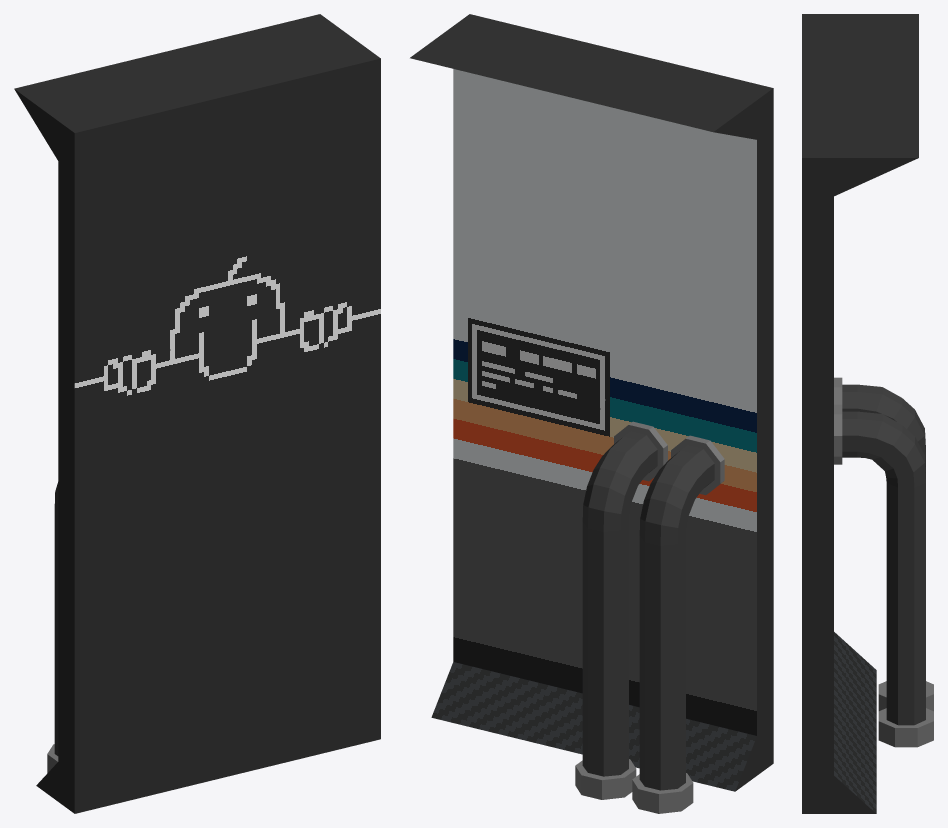
File: CalShipWall2.gltf
3 renders of one model, left to right at view 1: azimuth 30°, elevation 25°; view 2: azimuth 150°, elevation 25°; view 3: azimuth 270°, elevation 25°, orthographic. The views are drawn at different scales.
Visible parts, largest first — view 1: mesh; view 2: mesh; view 3: mesh.
Boxes of the visible parts, <box> form: mesh: <box>14,14,380,813</box>; mesh: <box>410,14,773,813</box>; mesh: <box>802,14,933,813</box>.
Bounding box in the file's own units: 1 × 2.16 × 0.3875.
Materials: 1 (1 with a texture image).
